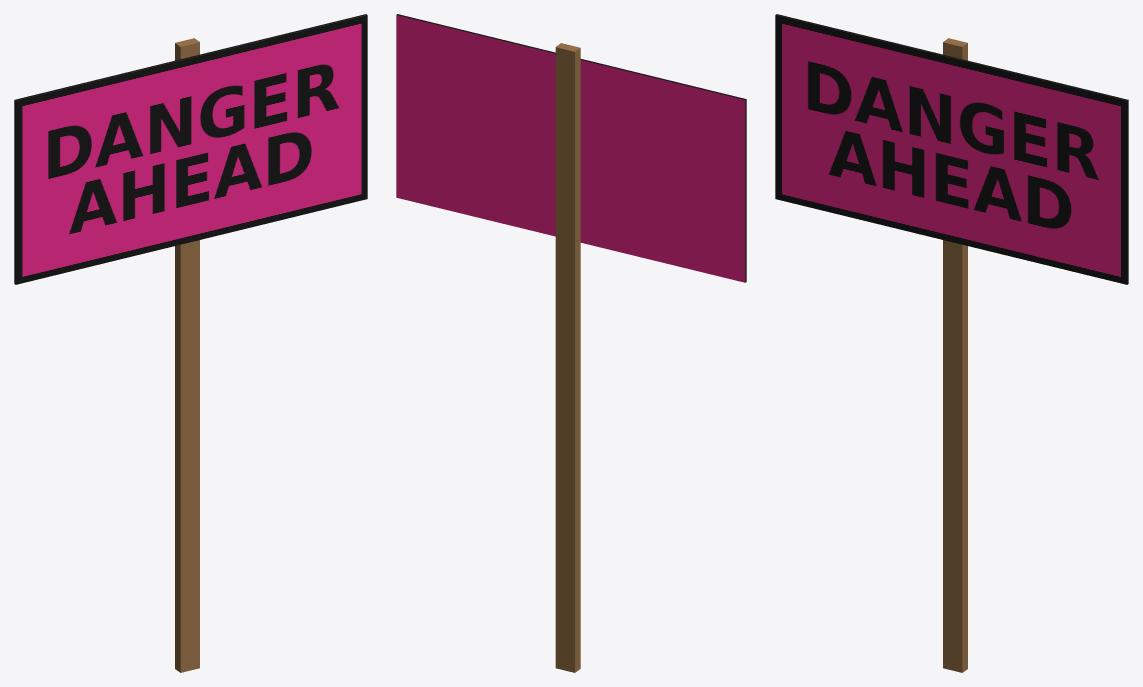
Rendered from sign_danger.dae.
The picture shows the model from 3 angles, left to right: view 1: azimuth 30°, elevation 25°; view 2: azimuth 150°, elevation 25°; view 3: azimuth 330°, elevation 25°; orthographic projection.
Visible parts, largest first — view 1: marker; view 2: marker; view 3: marker.
Boxes of the visible parts, x1=… form: marker: x1=14, y1=14, x2=367, y2=672; marker: x1=396, y1=14, x2=746, y2=672; marker: x1=775, y1=14, x2=1128, y2=672.
Bounding box in the file's own units: 0.9 × 0.031 × 1.53.
Materials: 1 (1 with a texture image).
